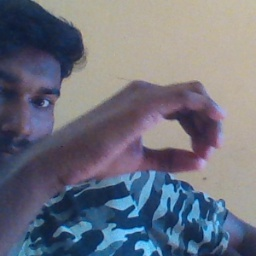O: (67, 71, 226, 190)
